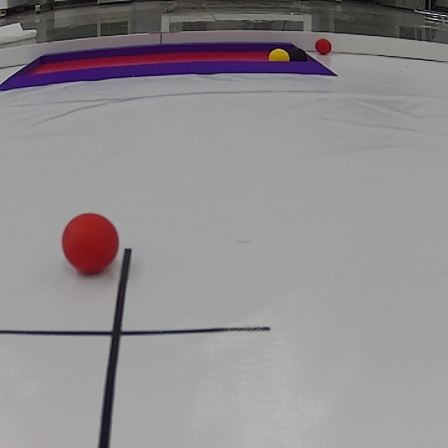black: (290, 47, 308, 62)
red: (60, 212, 117, 278), (316, 38, 332, 56)
red_aim: (0, 37, 337, 83)
yellow: (270, 48, 289, 63)
